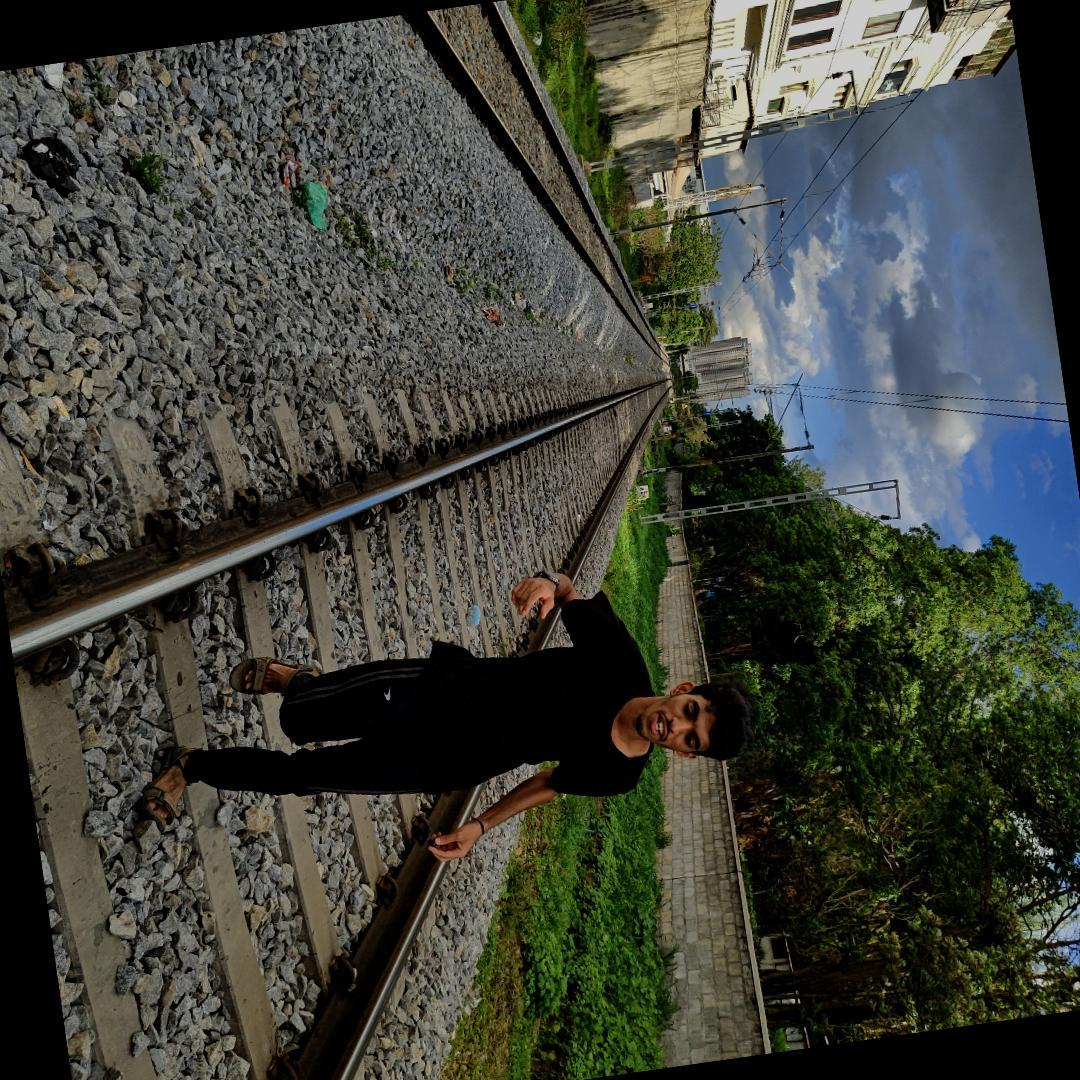standing: (99, 558, 769, 879)
